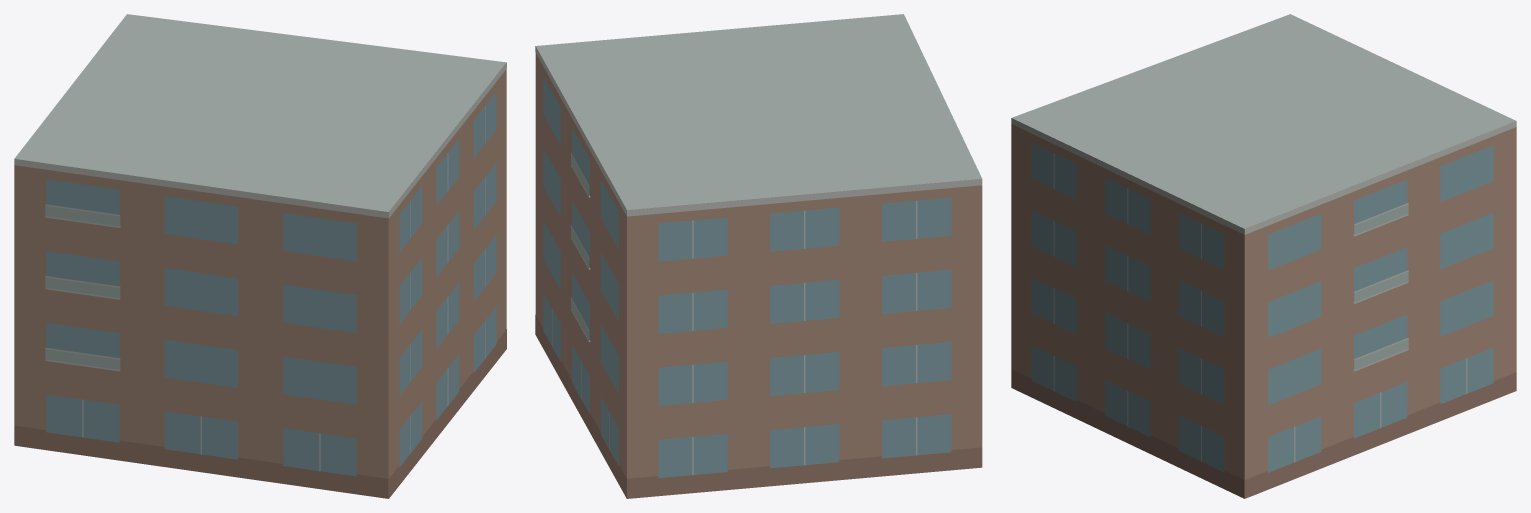
File: survey-upis-32745777.glb
The picture shows the model from 3 angles, left to right: view 1: azimuth 30°, elevation 25°; view 2: azimuth 150°, elevation 25°; view 3: azimuth 270°, elevation 25°; orthographic projection. The views are drawn at different scales.
Parts seen in each view (by area): view 1: survey-upis-32745777.tmp; view 2: survey-upis-32745777.tmp; view 3: survey-upis-32745777.tmp.
Part boxes in pixels (box(x1,y1,x2,y2)): survey-upis-32745777.tmp: box(14, 14, 506, 498); survey-upis-32745777.tmp: box(535, 14, 982, 498); survey-upis-32745777.tmp: box(1011, 14, 1516, 498).
Size of the model in its own units: 18.8 by 11 by 18.67.
